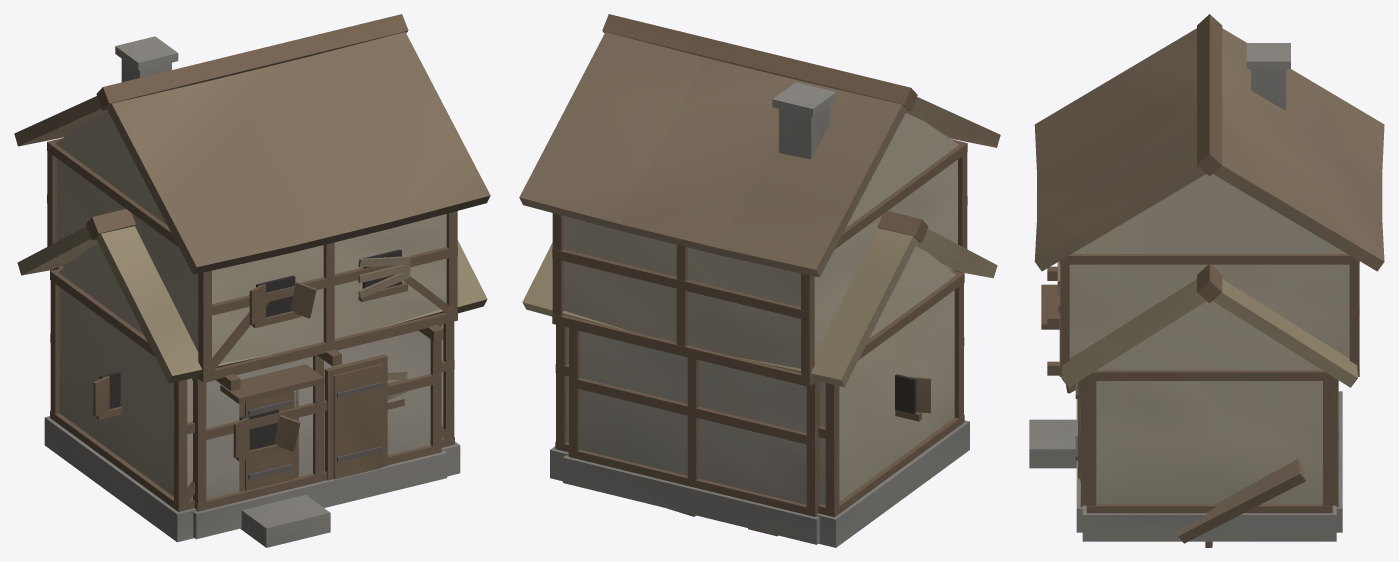
Rendered from VilaKit.glb.
3 renders of one model, left to right at view 1: azimuth 30°, elevation 25°; view 2: azimuth 150°, elevation 25°; view 3: azimuth 270°, elevation 25°, orthographic. The views are drawn at different scales.
Visible parts, largest first — view 1: CasaB, CasaA; view 2: CasaB, CasaA; view 3: CasaB, CasaA, CasaC.
Part boxes in pixels (bbox=[...]): CasaB: bbox=[14, 14, 490, 539]; CasaA: bbox=[17, 209, 487, 547]; CasaB: bbox=[519, 14, 1000, 544]; CasaA: bbox=[522, 211, 997, 547]; CasaB: bbox=[1034, 14, 1384, 532]; CasaA: bbox=[1029, 264, 1357, 541]; CasaC: bbox=[1177, 459, 1305, 543].
Size of the model in its own units: 6.07 by 7.92 by 6.01.
